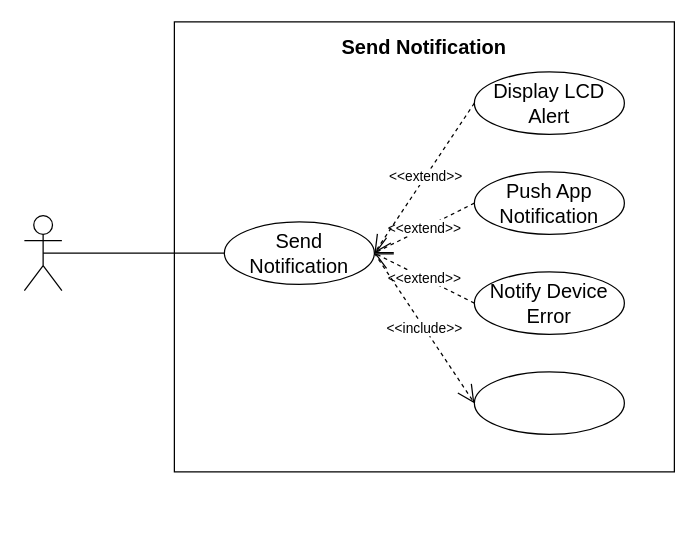
Some shapes in this 696 by 554 pixel diagram are drawn without their labels. The shapes that lost their labels are listed below. From the top down, each one's box as (x1, y1, x2, y2) in pixels, then its label:
(23, 214, 62, 291): User
(473, 371, 624, 434): Generate Alert Message
